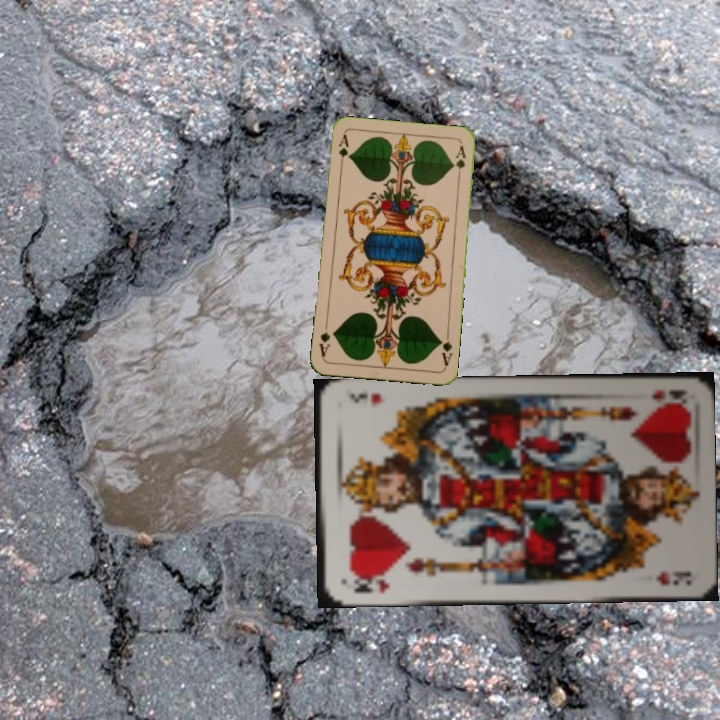GA: (436, 329, 455, 368), (334, 131, 351, 171)
HK: (349, 571, 391, 596), (648, 384, 688, 407)
